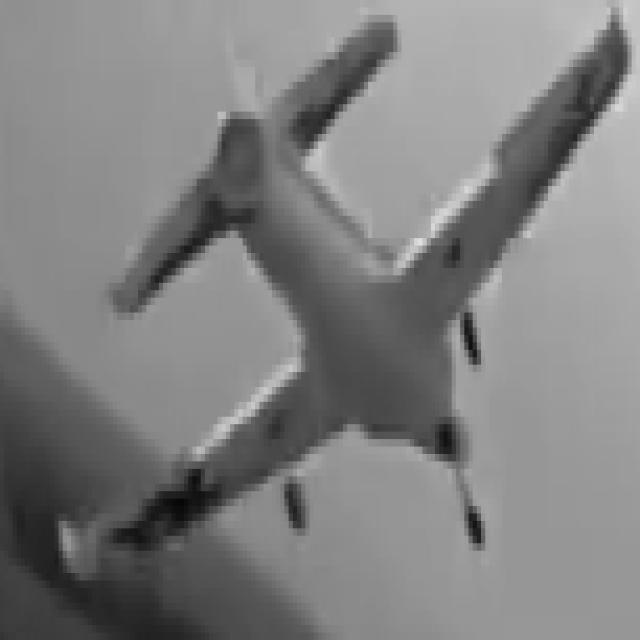iha: (3, 0, 627, 566)
